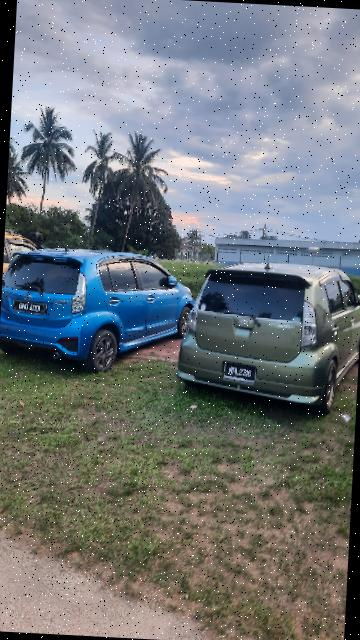License_Plate: (221, 357, 259, 386), (11, 298, 49, 318)
car: (174, 249, 360, 419), (1, 242, 198, 379)
